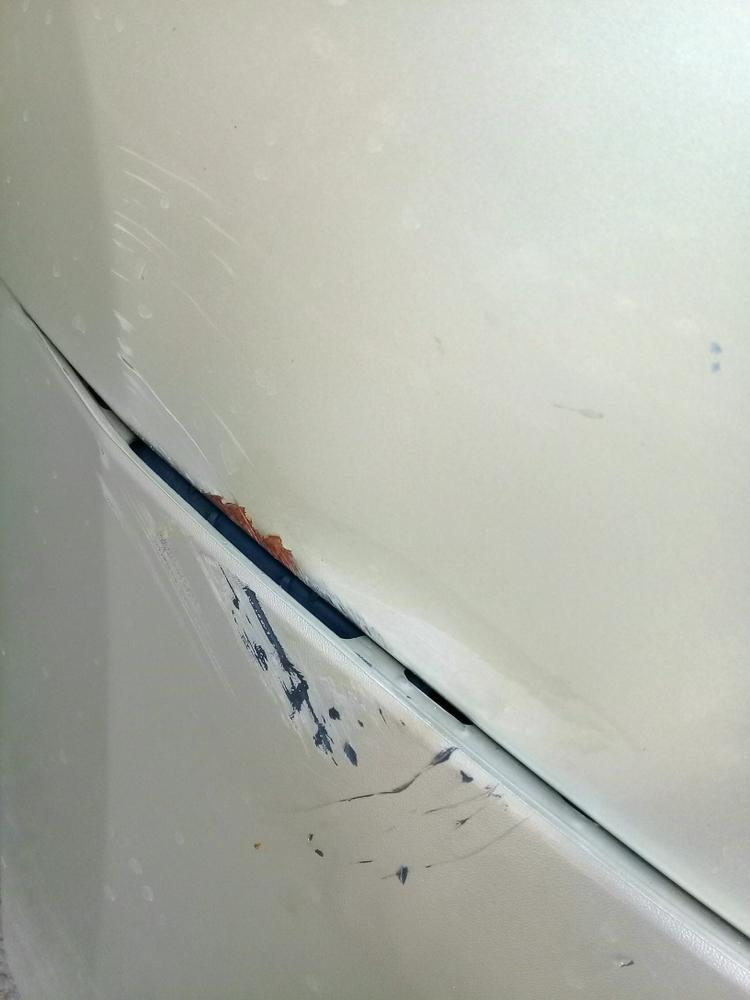scratch: (93, 457, 555, 901), (114, 146, 244, 508)
